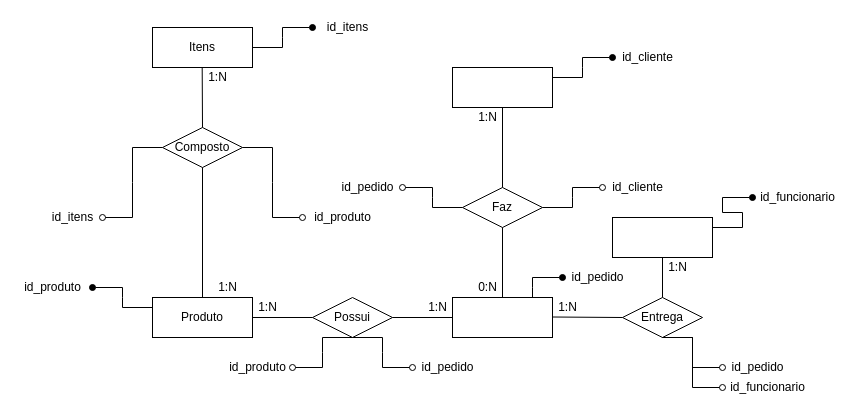
Image size: 859x414. Some labels were removed from this diagram. The shapes that lost their labels are listed below. From the top down, each one's box as (x1, y1, x2, y2) in pixels, then its label:
(452, 66, 552, 108): Cliente
(612, 216, 712, 258): Funcionário
(452, 296, 552, 338): Pedido
